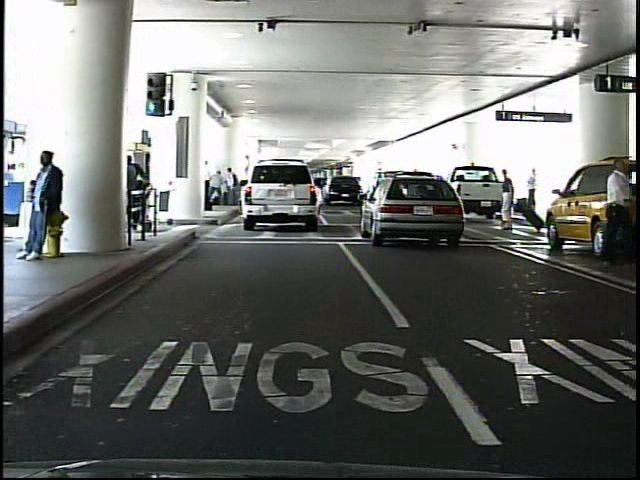person: (26, 149, 66, 263), (600, 156, 637, 264), (497, 167, 517, 233), (528, 167, 541, 215), (226, 167, 240, 208)
